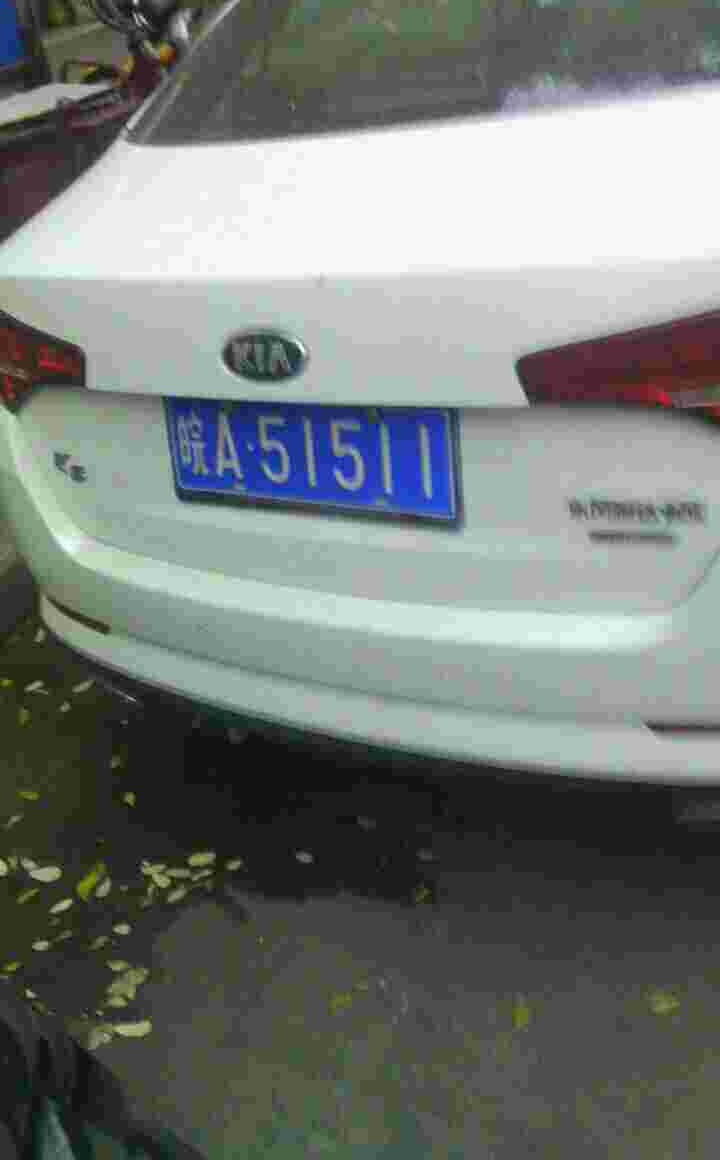license_plate: (164, 394, 459, 525)
